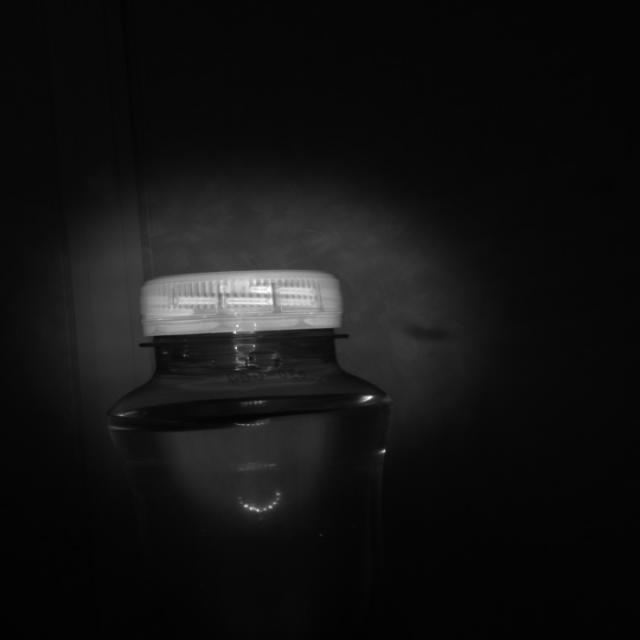Good: (140, 269, 340, 341)
